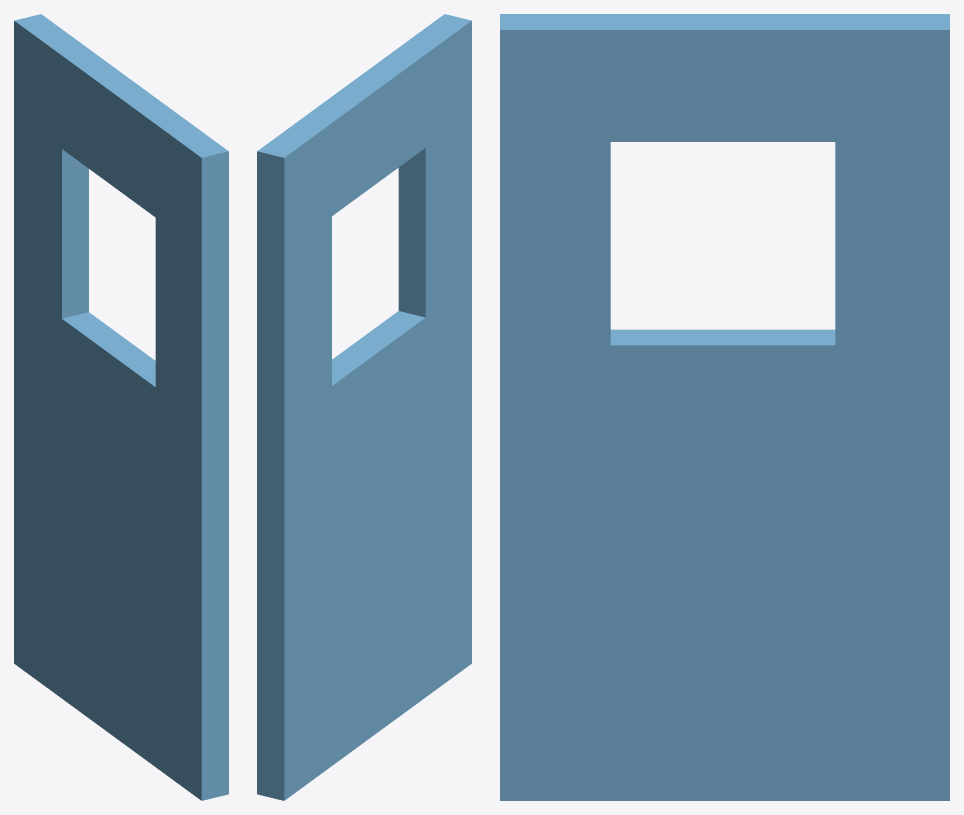
File: big_door.fbx
3 views of the same model, side by side, from view 1: azimuth 30°, elevation 25°; view 2: azimuth 150°, elevation 25°; view 3: azimuth 270°, elevation 25° (orthographic). The views are drawn at different scales.
Parts seen in each view (by area): view 1: Cube; view 2: Cube; view 3: Cube.
Part boxes in pixels (box(x1,y1,x2,y2)): Cube: box(14, 14, 228, 800); Cube: box(257, 14, 471, 800); Cube: box(500, 14, 949, 800).
Size of the model in its own units: 10.82 by 245 by 130.
